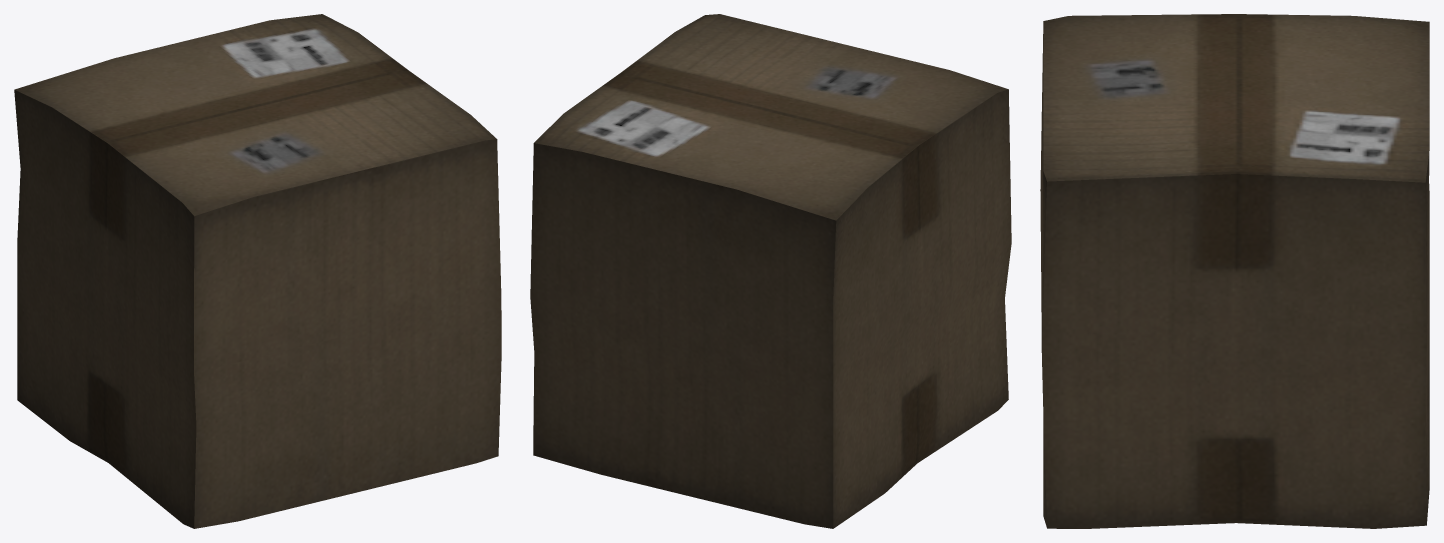
Rendered from cardboard_box_2.obj.
3 views of the same model, side by side, from view 1: azimuth 30°, elevation 25°; view 2: azimuth 150°, elevation 25°; view 3: azimuth 270°, elevation 25° (orthographic). The views are drawn at different scales.
Parts seen in each view (by area): view 1: cardboard_box_2; view 2: cardboard_box_2; view 3: cardboard_box_2.
Part boxes in pixels (box(x1,y1,x2,y2)): cardboard_box_2: box(14, 14, 501, 528); cardboard_box_2: box(530, 14, 1011, 528); cardboard_box_2: box(1040, 14, 1429, 528).
Size of the model in its own units: 0.7297 by 0.7262 by 0.7254.
